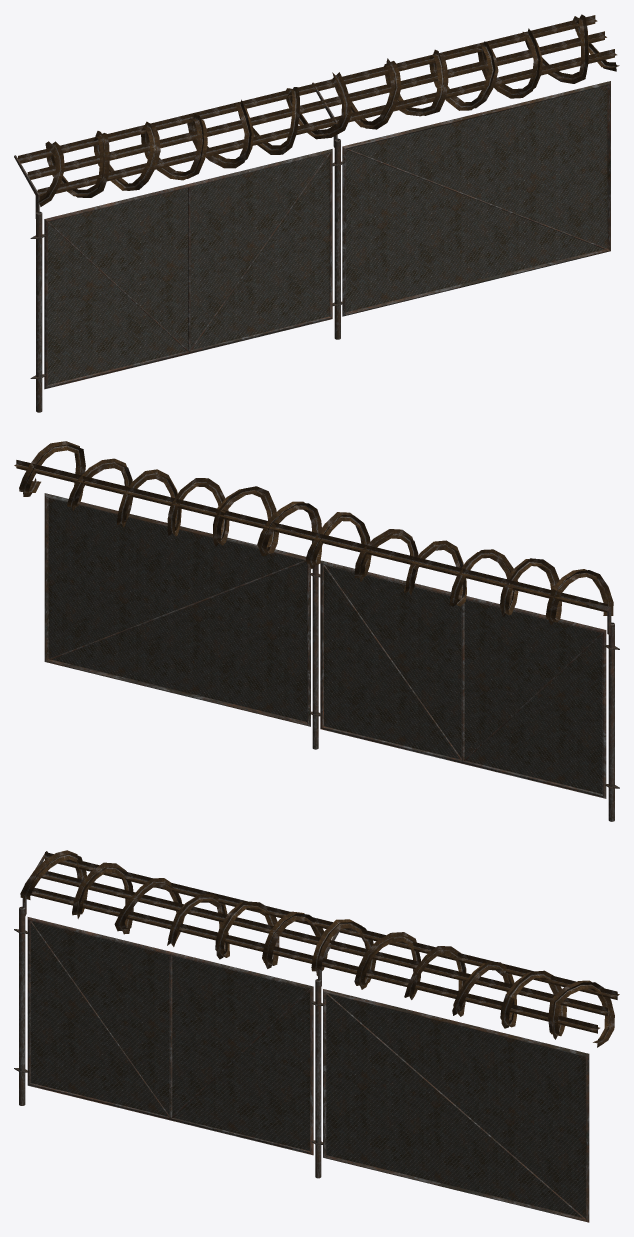
File: Fence_metal_01.FBX
3 renders of one model, top to bottom at view 1: azimuth 30°, elevation 25°; view 2: azimuth 150°, elevation 25°; view 3: azimuth 330°, elevation 25°, orthographic.
Parts seen in each view (by area): view 1: Fence_metal_grid_01, Fence_metal_wire_01, Fence_metal_01; view 2: Fence_metal_grid_01, Fence_metal_wire_01, Fence_metal_01; view 3: Fence_metal_grid_01, Fence_metal_wire_01, Fence_metal_01.
Boxes of the visible parts, left/top/right/bottom form: Fence_metal_grid_01: left=48, top=85, right=607, bottom=384; Fence_metal_wire_01: left=18, top=14, right=619, bottom=206; Fence_metal_01: left=14, top=81, right=610, bottom=412; Fence_metal_grid_01: left=48, top=498, right=602, bottom=793; Fence_metal_wire_01: left=14, top=441, right=613, bottom=625; Fence_metal_01: left=44, top=493, right=619, bottom=821; Fence_metal_grid_01: left=30, top=921, right=585, bottom=1218; Fence_metal_wire_01: left=20, top=850, right=619, bottom=1047; Fence_metal_01: left=14, top=851, right=589, bottom=1222.
Bounding box in the file's own units: 716 × 295 × 73.38.
